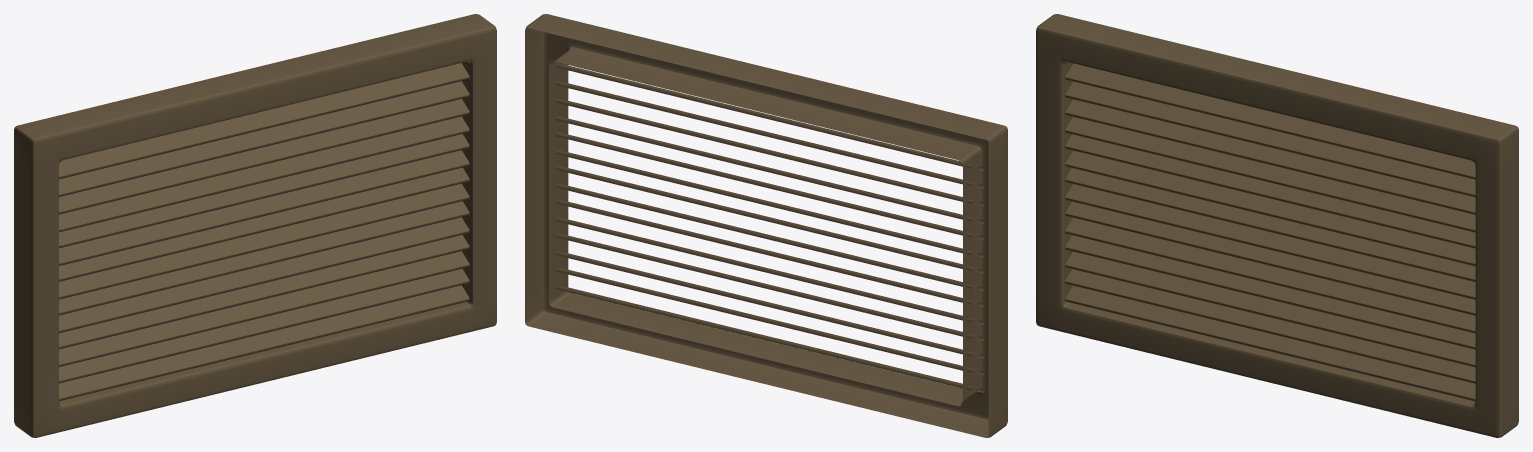
The model's file is Window.fbx.
3 views of the same model, side by side, from view 1: azimuth 30°, elevation 25°; view 2: azimuth 150°, elevation 25°; view 3: azimuth 330°, elevation 25° (orthographic).
Parts seen in each view (by area): view 1: Window; view 2: Window; view 3: Window.
Boxes of the visible parts, x1,y1,x2,y2 form: Window: (14,14,496,437); Window: (525,14,1007,437); Window: (1036,14,1518,437).
Bounding box in the file's own units: 13 × 8.01 × 0.9668.
